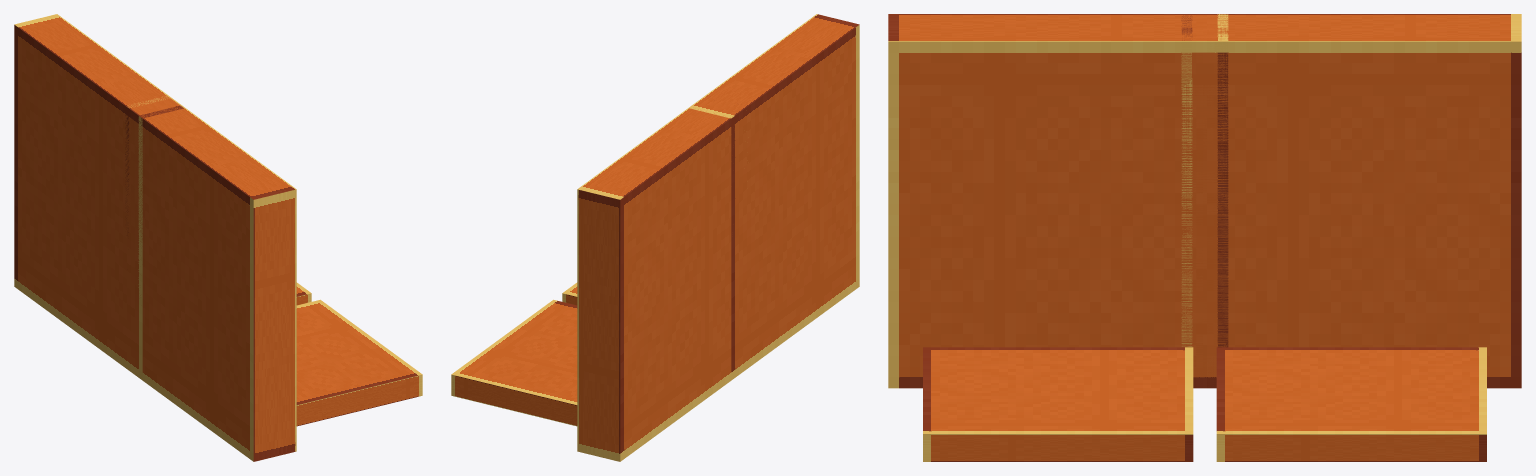
The model's file is bench_boots_1_hot.obj.
3 renders of one model, left to right at view 1: azimuth 30°, elevation 25°; view 2: azimuth 150°, elevation 25°; view 3: azimuth 270°, elevation 25°, orthographic. The views are drawn at different scales.
Parts seen in each view (by area): view 1: geometry; view 2: geometry; view 3: geometry.
Boxes of the visible parts, x1,y1,x2,y2 form: geometry: (14,14,422,461); geometry: (451,14,859,461); geometry: (888,14,1521,461).
Bounding box in the file's own units: 0.1818 × 0.25 × 0.4141.
